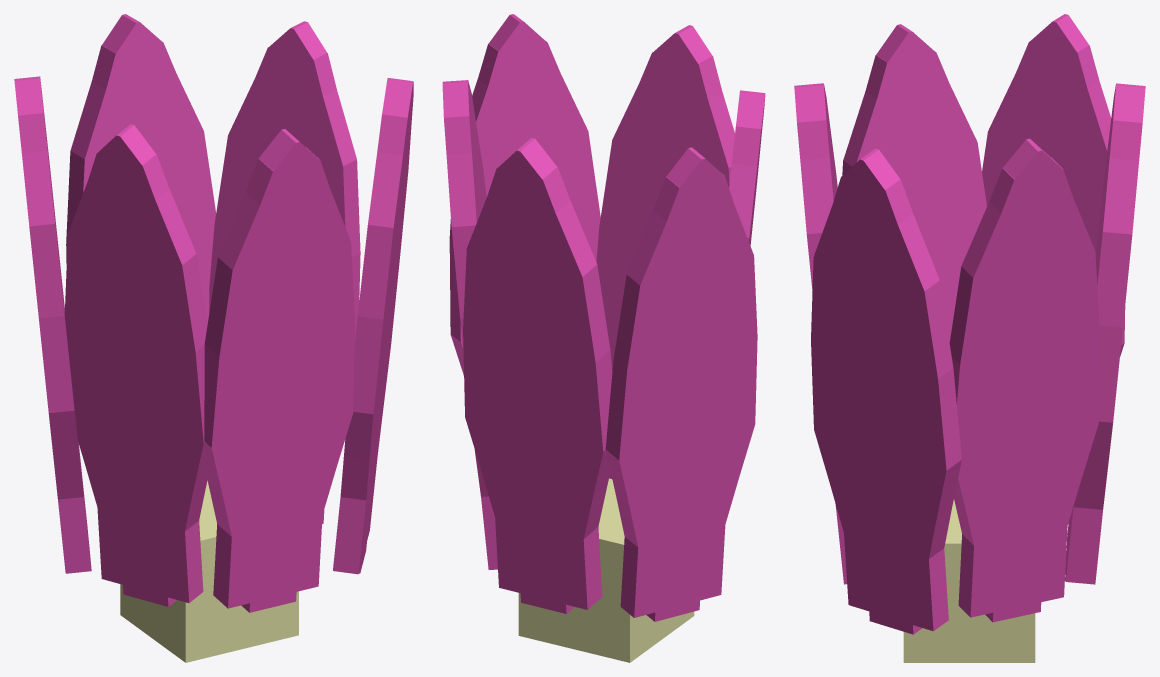
Rendered from bloom.glb.
3 renders of one model, left to right at view 1: azimuth 30°, elevation 25°; view 2: azimuth 150°, elevation 25°; view 3: azimuth 270°, elevation 25°, orthographic. The views are drawn at different scales.
Visible parts, largest first — view 1: petal 1, petal 6, petal 2, petal 3, petal5, petal 4, Cube.006; view 2: petal 2, petal 4, petal 1, petal 3, Cube.006, petal5, petal 6; view 3: petal5, petal 3, petal 6, petal 4, petal 2, Cube.006, petal 1.
Part boxes in pixels (x1,y1,x2,y2): petal 1: [204, 129, 354, 612]; petal 6: [64, 124, 207, 606]; petal 2: [66, 14, 216, 325]; petal 3: [333, 78, 413, 574]; petal5: [209, 21, 360, 524]; petal 4: [14, 76, 91, 573]; Cube.006: [120, 480, 298, 662]; petal 2: [463, 137, 612, 613]; petal 4: [605, 147, 757, 621]; petal 1: [596, 25, 734, 478]; petal 3: [449, 14, 600, 375]; Cube.006: [518, 478, 694, 662]; petal5: [442, 80, 497, 569]; petal 6: [729, 90, 765, 245]; petal5: [949, 138, 1099, 622]; petal 3: [811, 148, 961, 634]; petal 6: [842, 24, 986, 342]; petal 4: [982, 14, 1125, 523]; petal 2: [1065, 83, 1145, 584]; Cube.006: [903, 499, 1035, 662]; petal 1: [794, 83, 847, 584].
Size of the model in its own units: 0.3889 by 0.597 by 0.3445.
